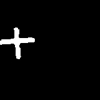single_crochet: (0, 28, 34, 58)
